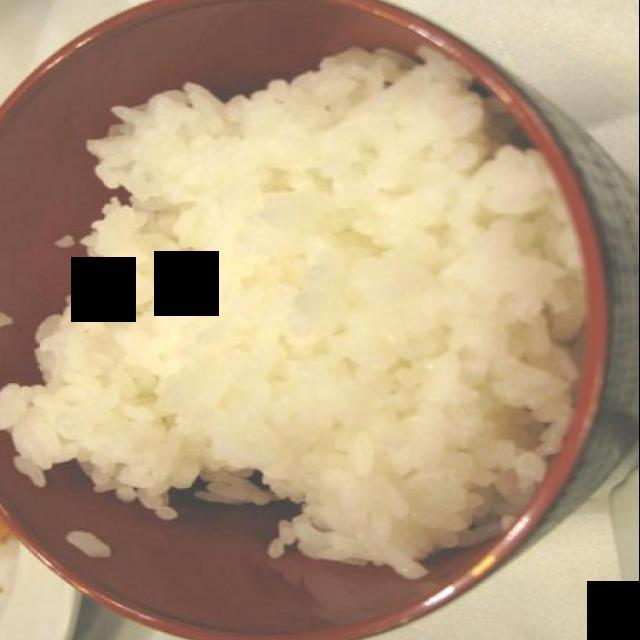rice: (0, 51, 584, 578)
